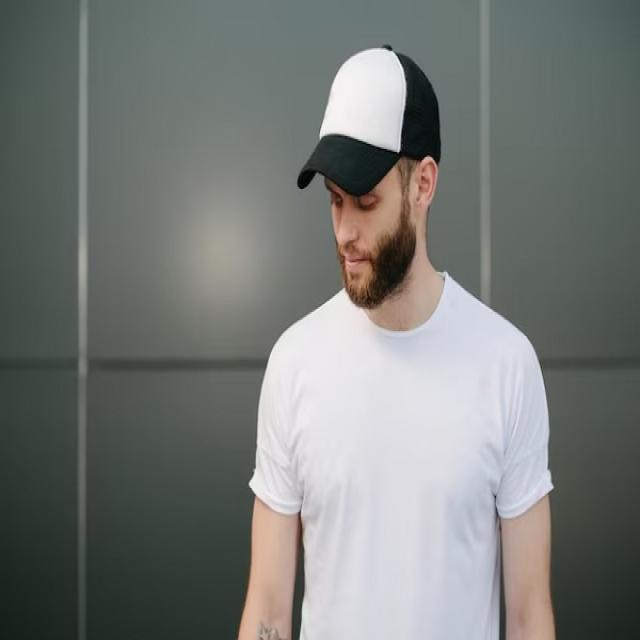Helmet: (295, 34, 446, 323)
